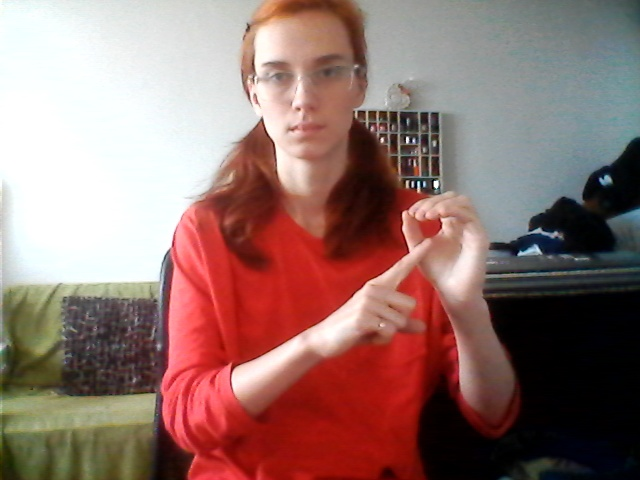q: (341, 186, 504, 357)
